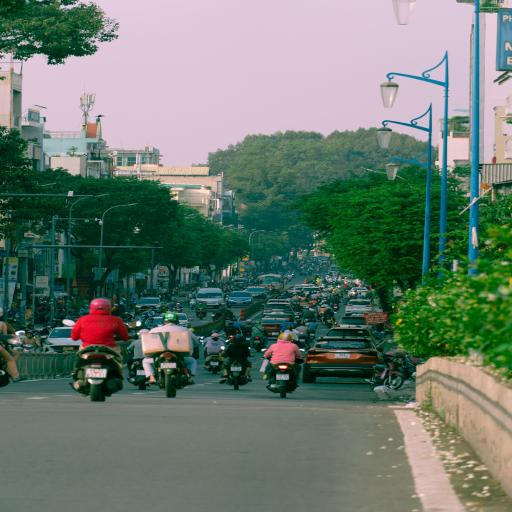place: (87, 368, 107, 378), (162, 363, 177, 369), (334, 354, 351, 359), (276, 374, 290, 380), (210, 361, 220, 366), (137, 370, 145, 376), (230, 367, 242, 371)
